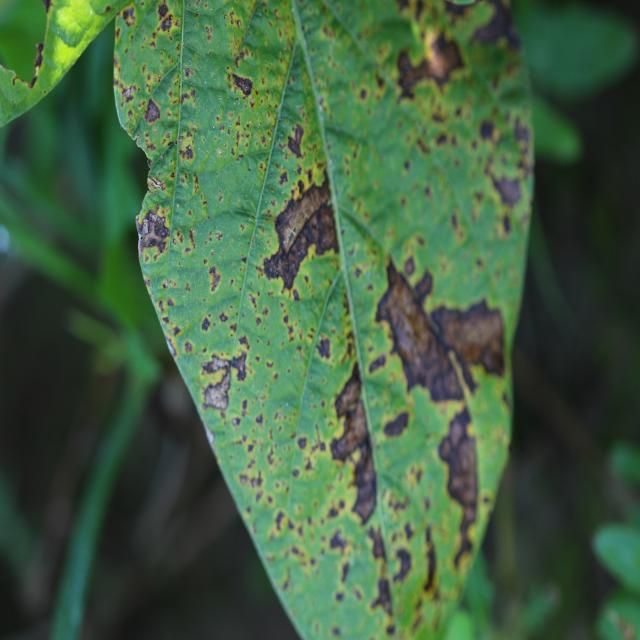Bacterial_Blight: (375, 265, 451, 395), (327, 368, 377, 525), (266, 185, 336, 289), (432, 297, 507, 379), (442, 405, 478, 492), (200, 347, 248, 402), (365, 523, 394, 613), (467, 1, 521, 49), (210, 114, 259, 165), (396, 42, 438, 98), (135, 207, 172, 261), (333, 368, 363, 420), (140, 57, 172, 100), (493, 172, 523, 208), (421, 532, 438, 593), (263, 248, 292, 283), (392, 546, 413, 584), (453, 533, 474, 569), (382, 410, 409, 437), (200, 354, 232, 376), (285, 123, 305, 158), (514, 116, 532, 147), (308, 428, 327, 456), (231, 73, 253, 96), (143, 97, 161, 124), (329, 528, 347, 552), (315, 335, 332, 360), (202, 420, 216, 449), (207, 265, 222, 292), (479, 119, 496, 142), (368, 353, 387, 373), (147, 176, 167, 193), (121, 5, 136, 27), (121, 84, 135, 103), (450, 211, 462, 233), (144, 132, 157, 152), (274, 510, 287, 530), (160, 14, 174, 32), (165, 336, 177, 357), (157, 1, 170, 20), (404, 256, 416, 276), (237, 333, 250, 351), (248, 292, 259, 311), (502, 213, 512, 233), (180, 90, 194, 104), (182, 144, 194, 160), (188, 228, 197, 248), (278, 170, 289, 186), (141, 218, 150, 237), (297, 435, 308, 450), (201, 316, 211, 332), (204, 25, 213, 42), (183, 66, 194, 79), (193, 174, 200, 193), (219, 311, 229, 323), (335, 590, 345, 602), (331, 625, 341, 637), (135, 213, 142, 230), (359, 87, 368, 100), (184, 341, 193, 353), (166, 296, 175, 308), (403, 158, 411, 171), (135, 133, 142, 146), (147, 157, 153, 170), (215, 232, 223, 241), (162, 279, 169, 289), (217, 148, 222, 156)
Soybean: (112, 0, 536, 640)
